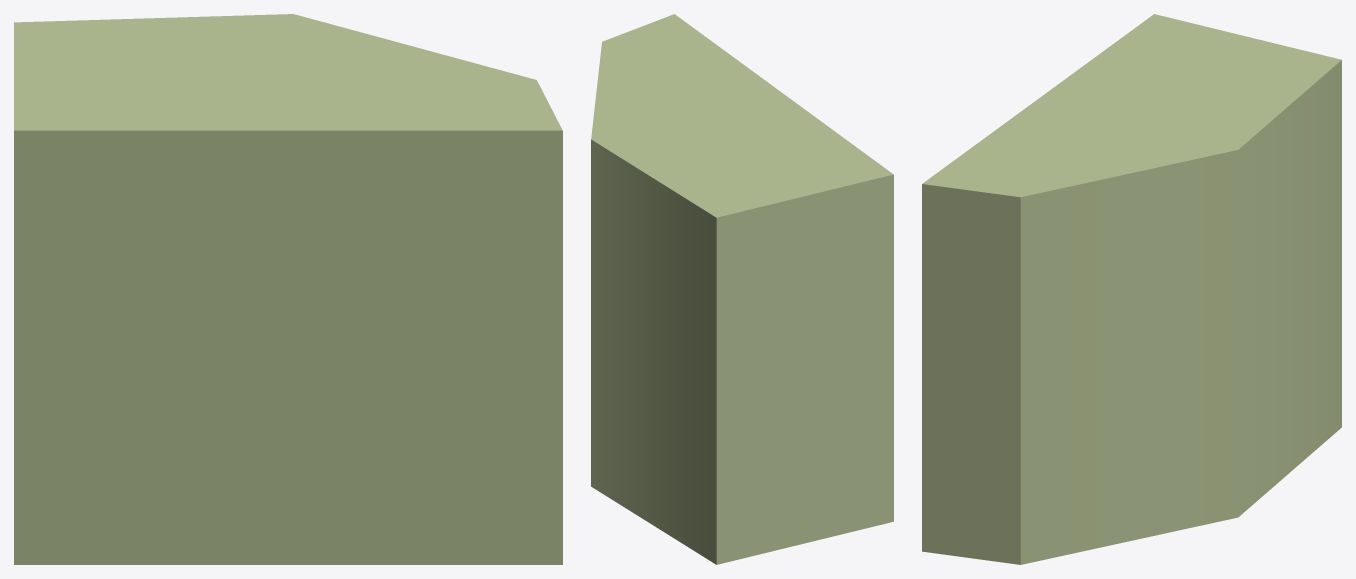
The model's file is ground_15.gltf.
The picture shows the model from 3 angles, left to right: view 1: azimuth 30°, elevation 25°; view 2: azimuth 150°, elevation 25°; view 3: azimuth 270°, elevation 25°; orthographic projection. The views are drawn at different scales.
Parts seen in each view (by area): view 1: dormitorydining; view 2: dormitorydining; view 3: dormitorydining.
Part boxes in pixels (x1,y1,x2,y2): dormitorydining: (14,14,562,564); dormitorydining: (591,14,893,564); dormitorydining: (922,14,1341,564).
Bounding box in the file's own units: 4.97 × 4.65 × 4.81.
